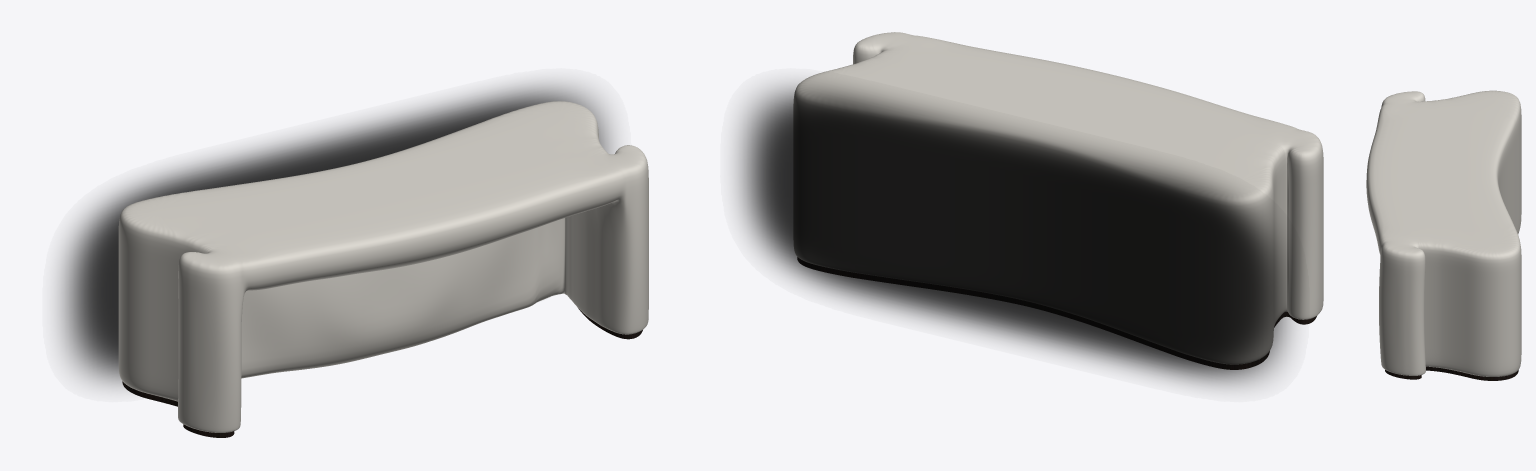
3 renders of one model, left to right at view 1: azimuth 30°, elevation 25°; view 2: azimuth 150°, elevation 25°; view 3: azimuth 270°, elevation 25°, orthographic. The views are drawn at different scales.
Parts seen in each view (by area): view 1: Tricani Sofa_skinn_01_0, Plane001, Wood_Material #33_0; view 2: Tricani Sofa_skinn_01_0, Plane001, Wood_Material #33_0; view 3: Tricani Sofa_skinn_01_0, Wood_Material #33_0.
Boxes of the visible parts, <box> form: Tricani Sofa_skinn_01_0: <box>118,101,648,432</box>; Plane001: <box>58,83,614,387</box>; Wood_Material #33_0: <box>122,308,642,437</box>; Tricani Sofa_skinn_01_0: <box>793,32,1323,364</box>; Plane001: <box>736,83,1293,387</box>; Wood_Material #33_0: <box>797,257,1316,369</box>; Tricani Sofa_skinn_01_0: <box>1366,90,1521,376</box>; Wood_Material #33_0: <box>1385,366,1518,380</box>.
Size of the model in its own units: 12.26 by 5.15 by 3.45.
3 materials, 2 textured.
